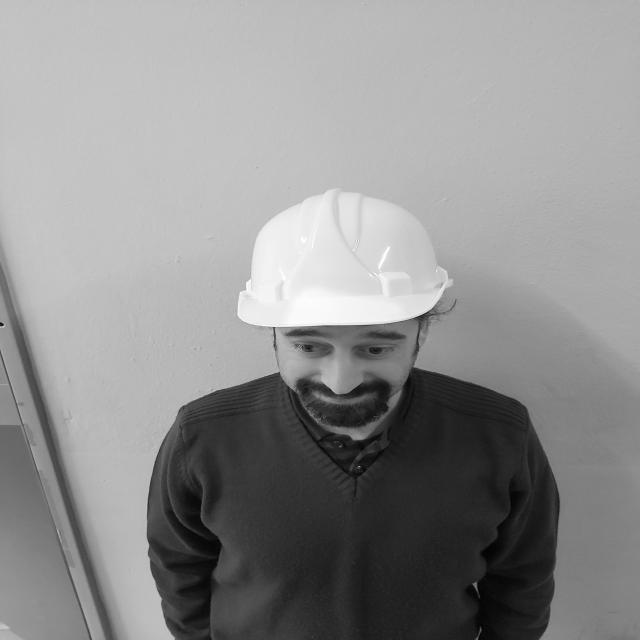safety_helmet: (236, 190, 455, 330)
